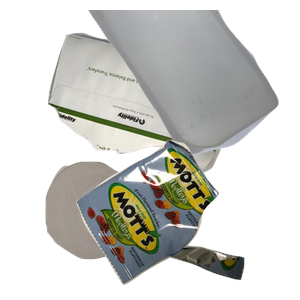glass: (43, 159, 187, 300)
paper: (45, 30, 281, 195)
plastic: (84, 10, 300, 157)
trash: (74, 137, 300, 300)
